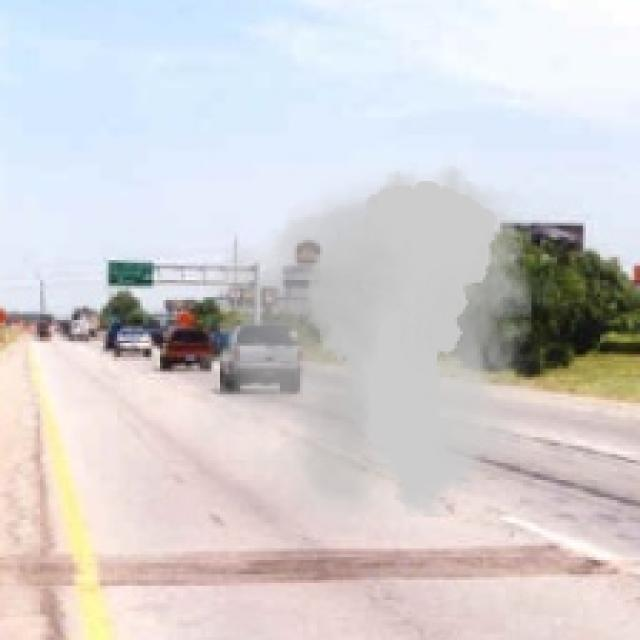Smoke: (166, 154, 563, 543)
